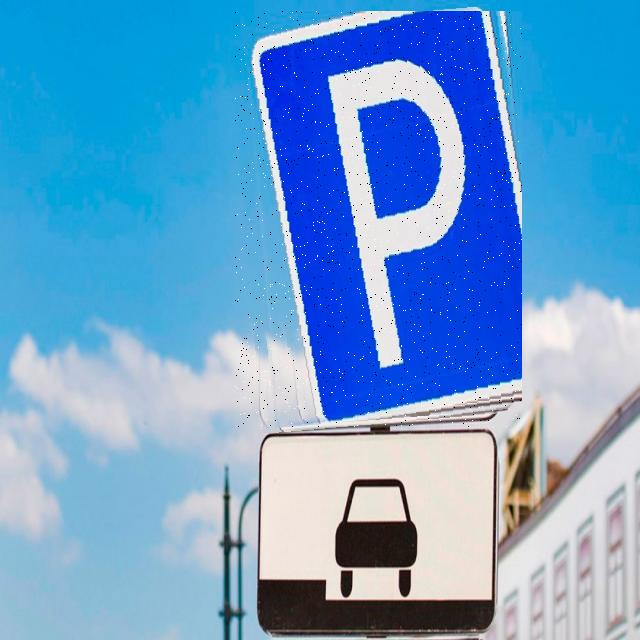parking: (235, 11, 522, 428)
